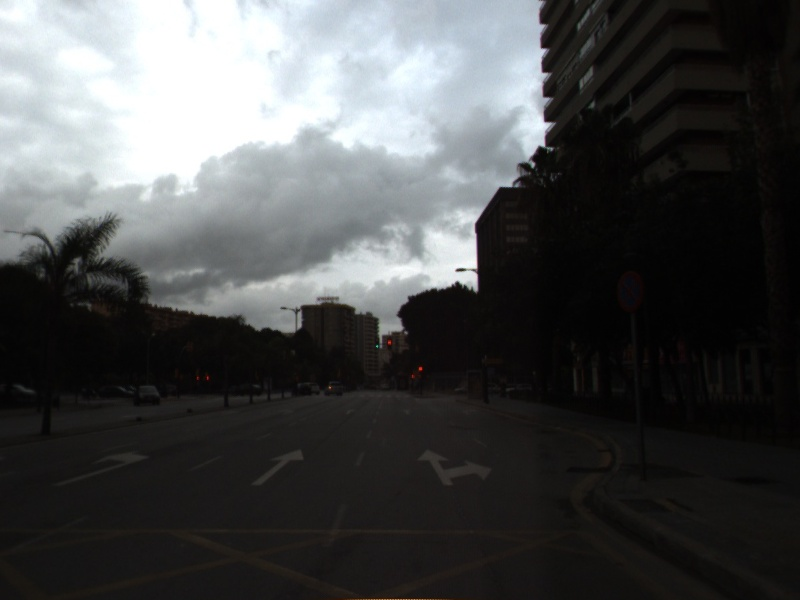LEFT: (49, 449, 151, 488)
STRAIGHT: (248, 447, 306, 487)
STRAIGHT_RIGHT: (414, 447, 494, 488)
